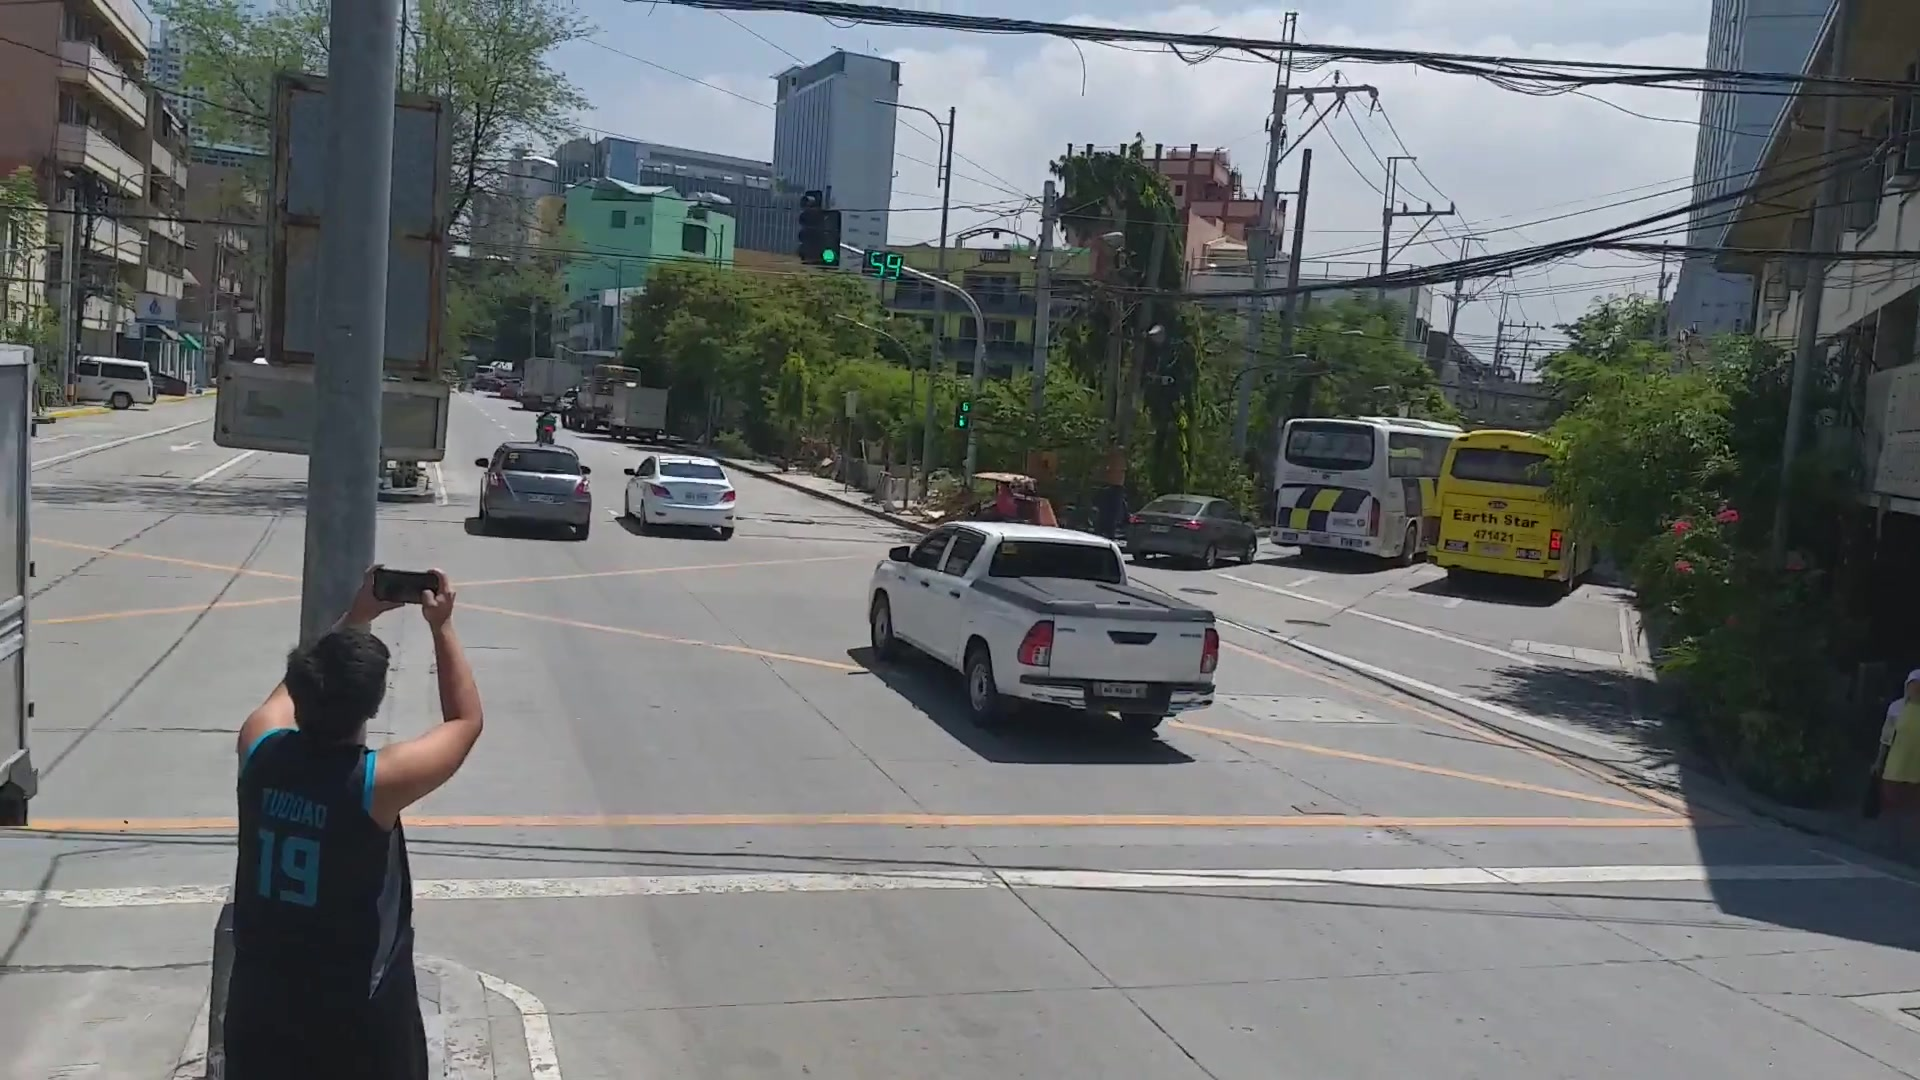car: (857, 518, 1233, 769), (468, 438, 597, 541), (622, 451, 744, 540)
plate number: (1086, 676, 1156, 706), (523, 494, 564, 509), (681, 491, 713, 505)
